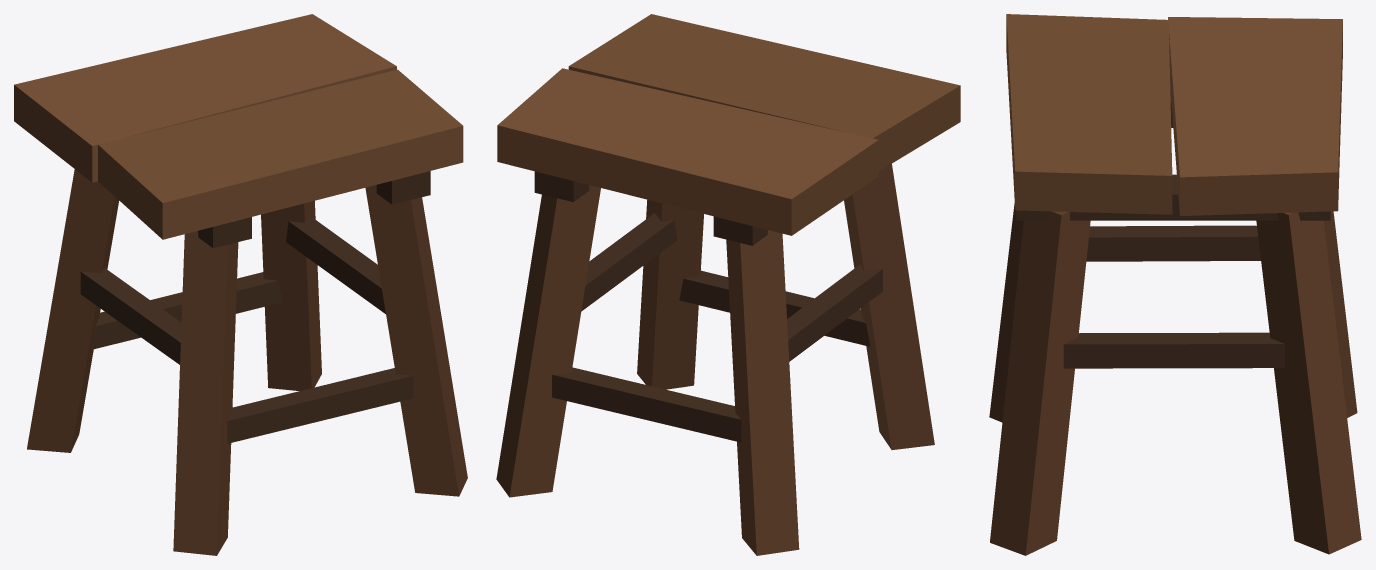
The model's file is tl_furn_stool_square_v01.glb.
3 renders of one model, left to right at view 1: azimuth 30°, elevation 25°; view 2: azimuth 150°, elevation 25°; view 3: azimuth 270°, elevation 25°, orthographic. The views are drawn at different scales.
Parts seen in each view (by area): view 1: tl_furn_stool_square_v01; view 2: tl_furn_stool_square_v01; view 3: tl_furn_stool_square_v01.
Boxes of the visible parts, x1,y1,x2,y2 form: tl_furn_stool_square_v01: [14, 14, 467, 555]; tl_furn_stool_square_v01: [496, 14, 960, 555]; tl_furn_stool_square_v01: [989, 14, 1361, 555].
Size of the model in its own units: 0.4062 by 0.44 by 0.3912.
